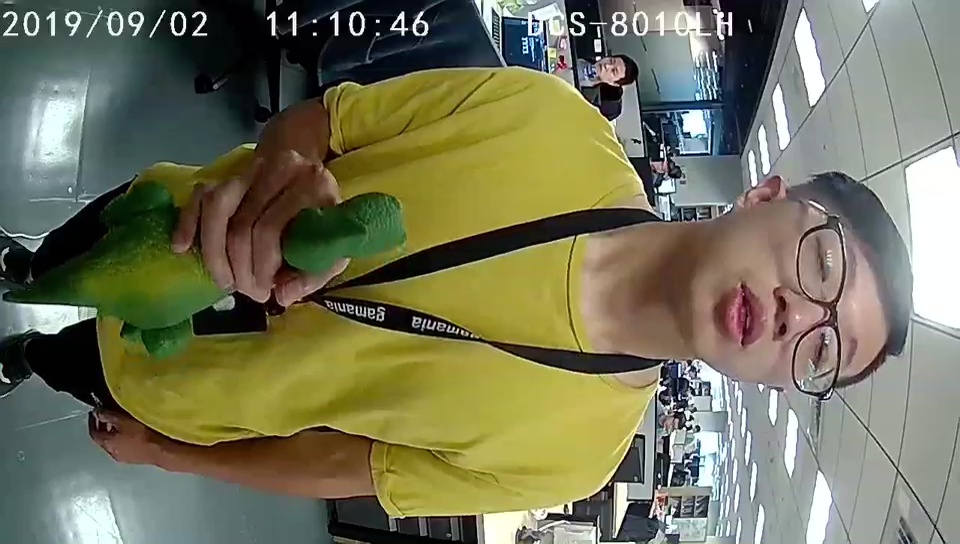rex: (109, 191, 405, 359)
